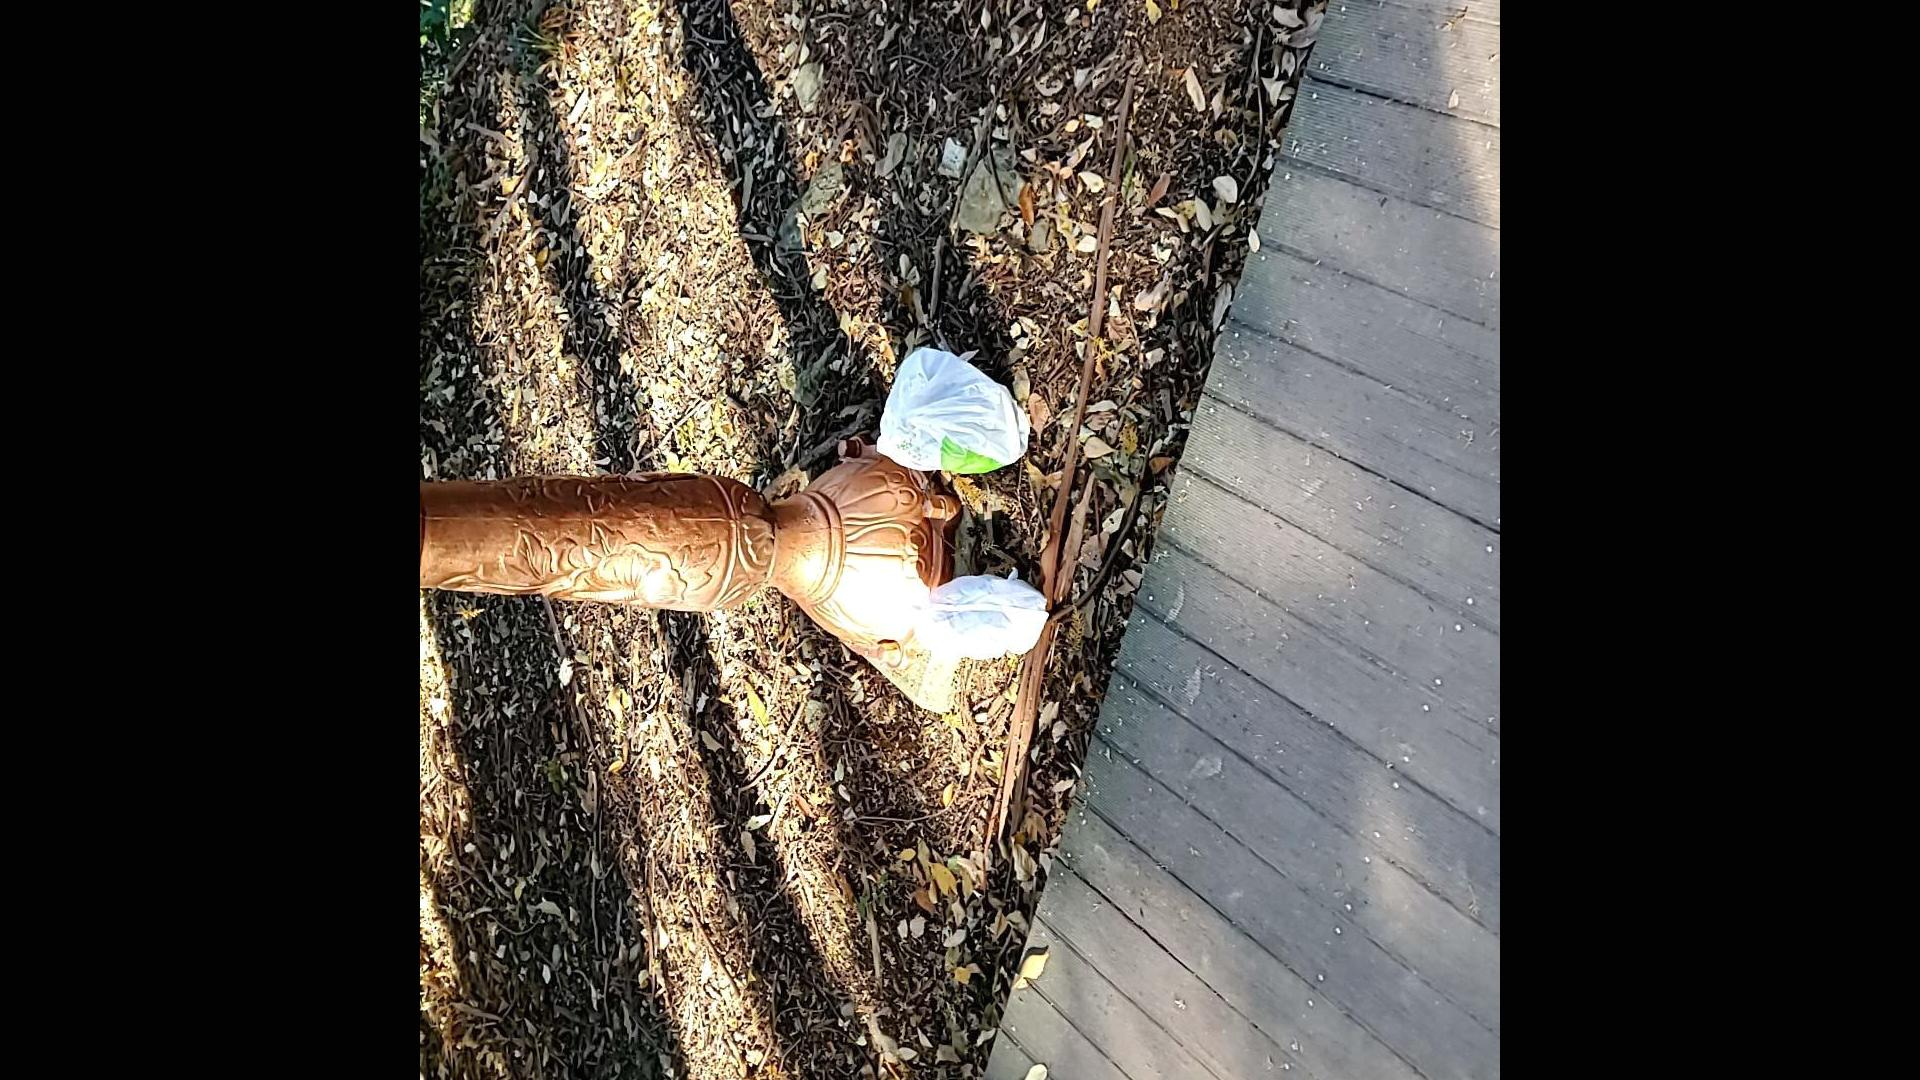white_bag: (860, 338, 1048, 495), (909, 566, 1052, 673)
